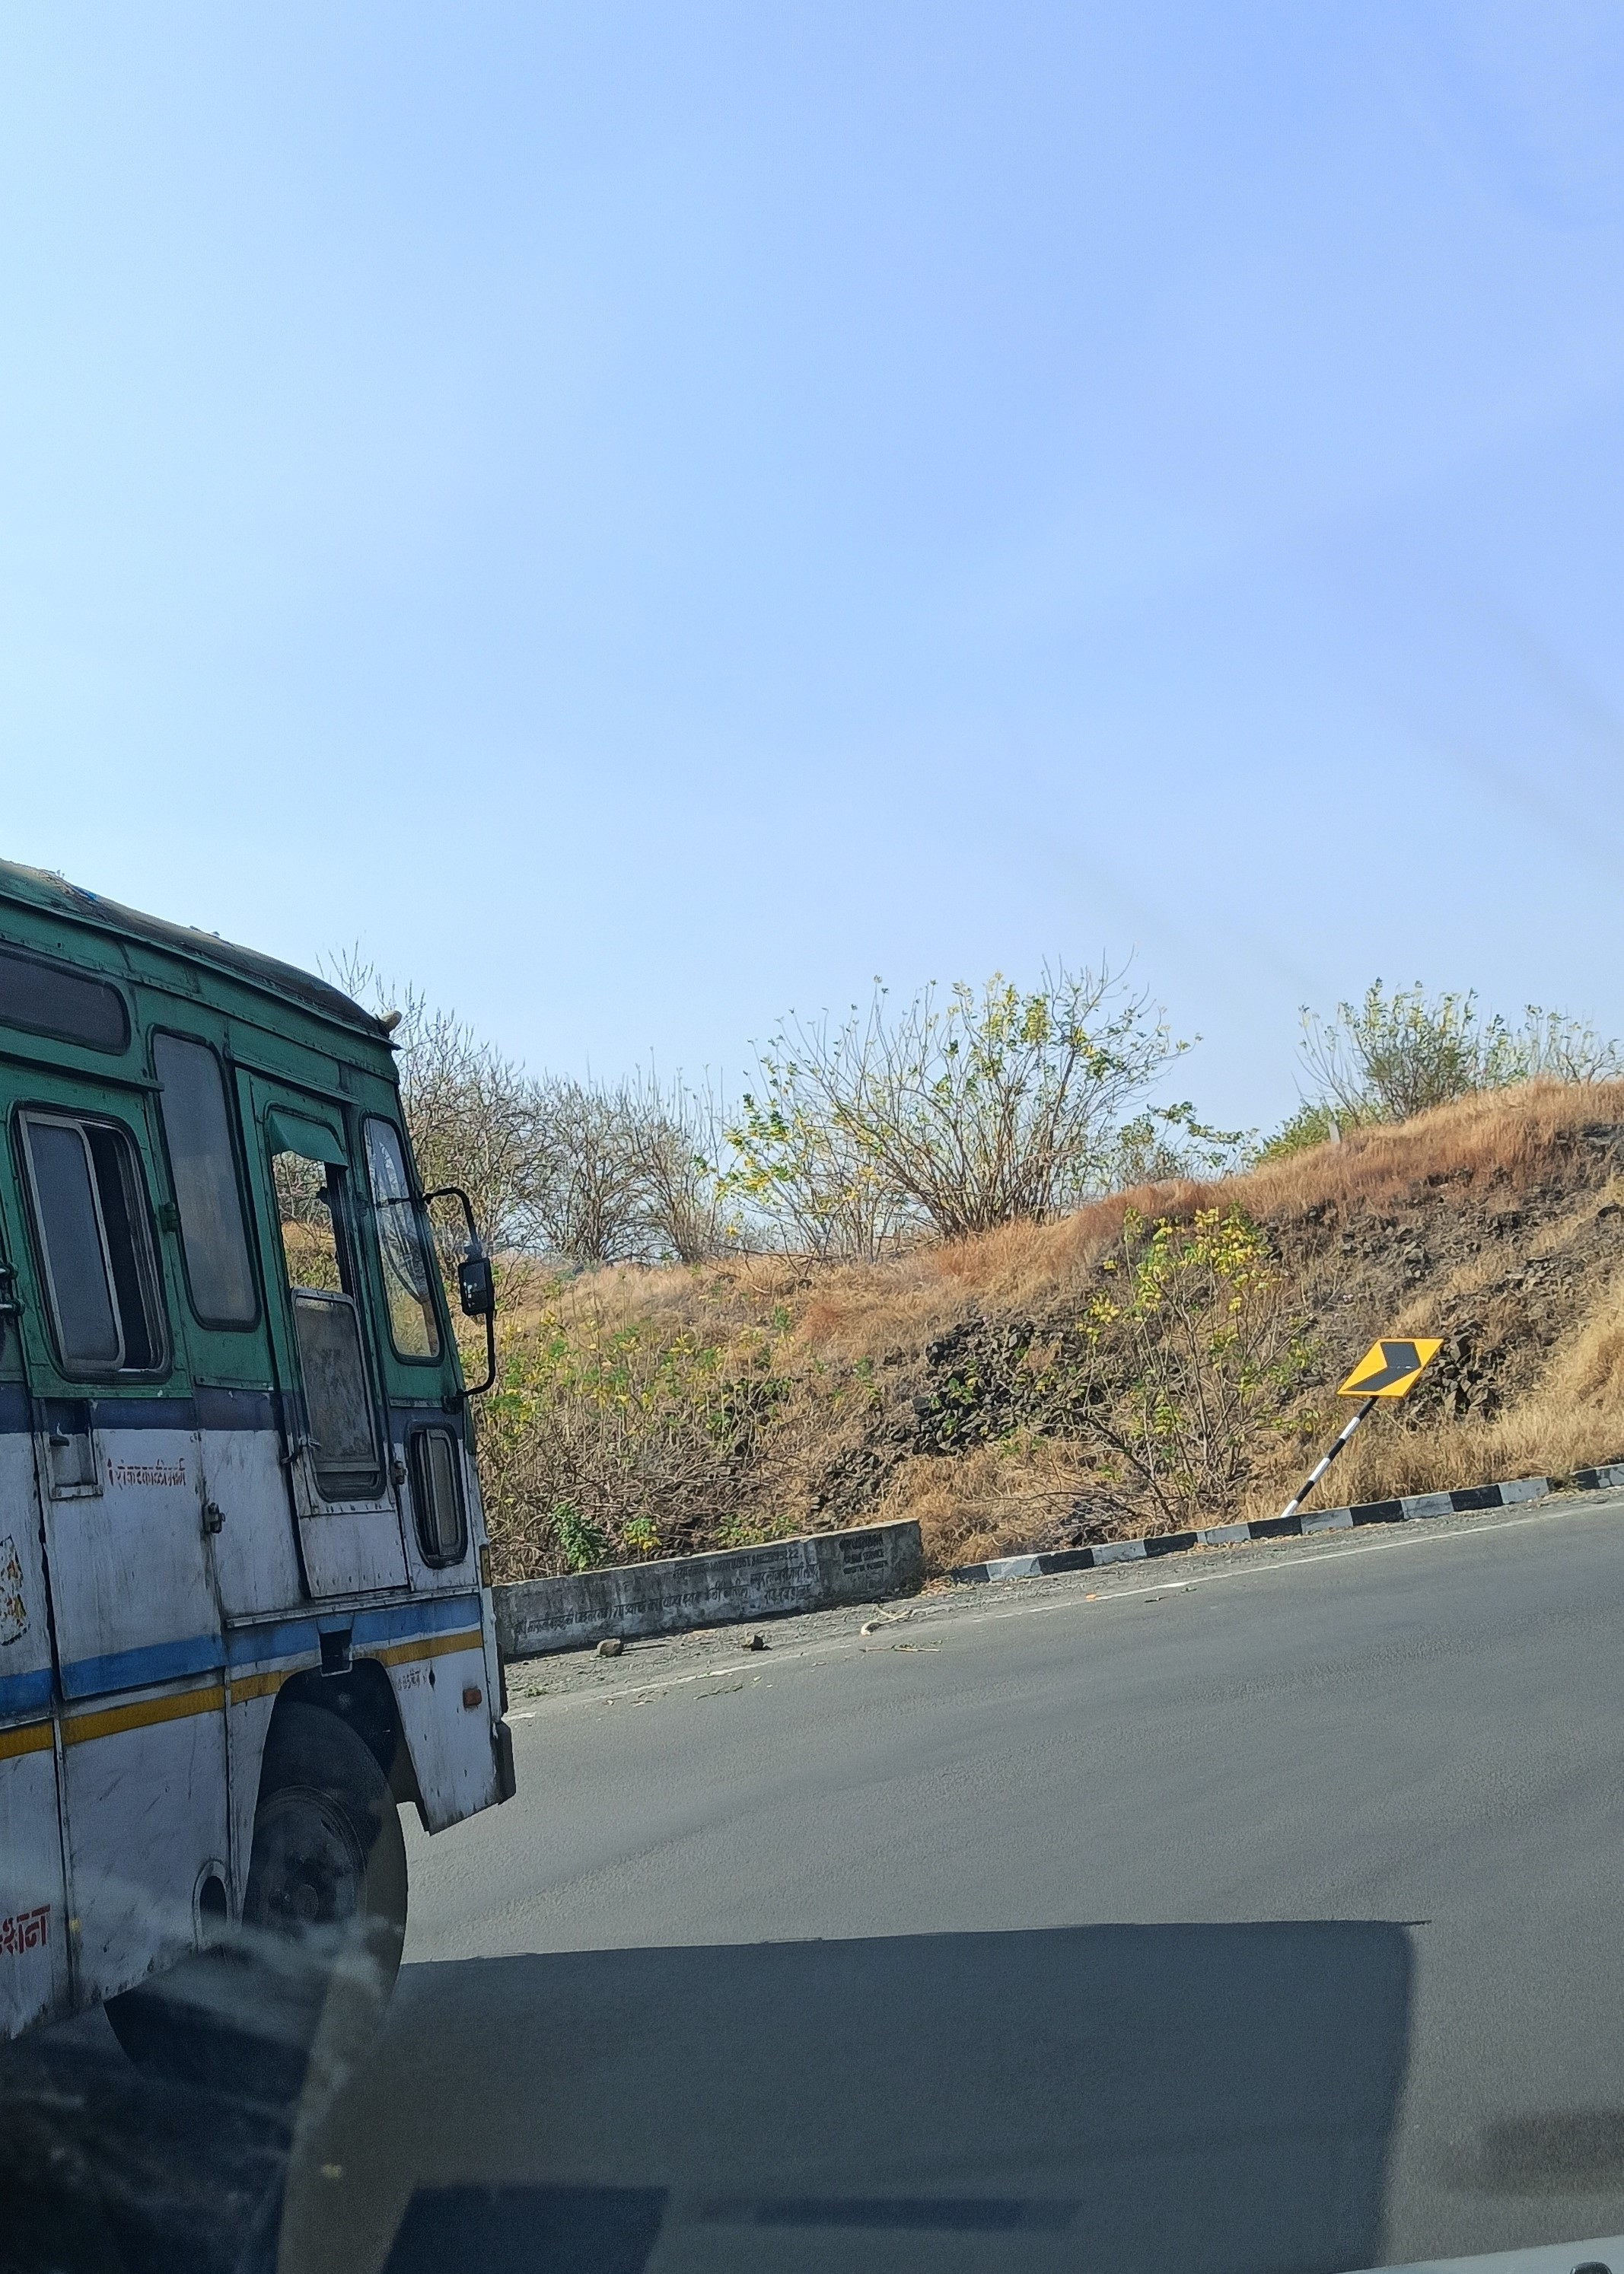Bus: (0, 840, 714, 2109)
Road Divider: (582, 1555, 954, 1634)
Road Sign Board: (1283, 1299, 1471, 1459)
